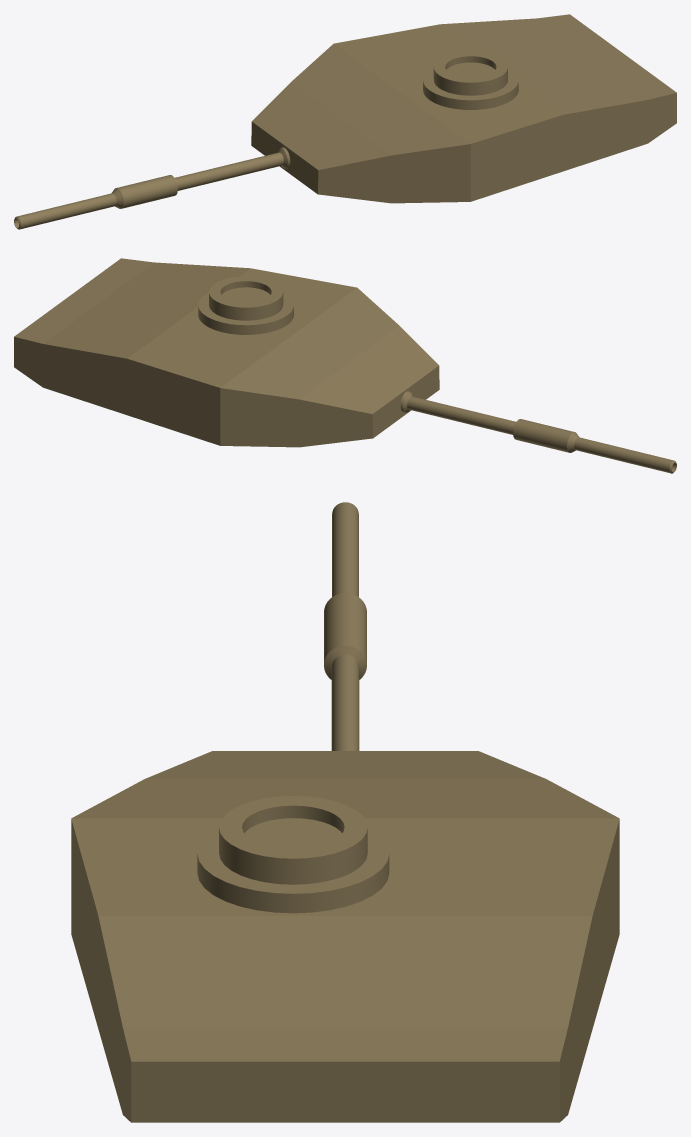
The model's file is tank top.fbx.
3 views of the same model, one above another, from view 1: azimuth 30°, elevation 25°; view 2: azimuth 150°, elevation 25°; view 3: azimuth 270°, elevation 25° (orthographic). The views are drawn at different scales.
Visible parts, largest first — view 1: Tank top; view 2: Tank top; view 3: Tank top.
Boxes of the visible parts, x1,y1,x2,y2 form: Tank top: (14,14,676,229); Tank top: (14,258,676,473); Tank top: (71,502,619,1122).
Size of the model in its own units: 239 by 30.4 by 93.72.
